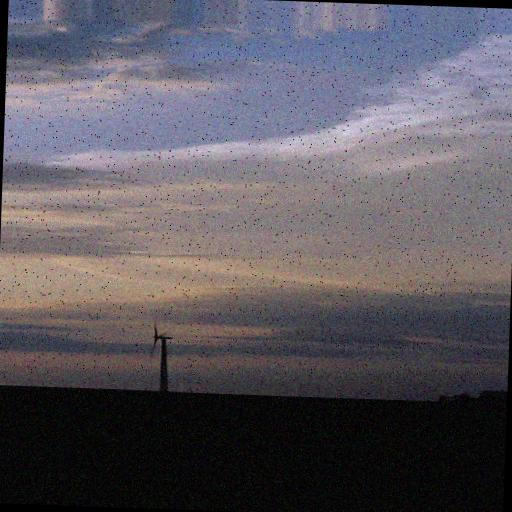wind turbine: (149, 320, 176, 389)
